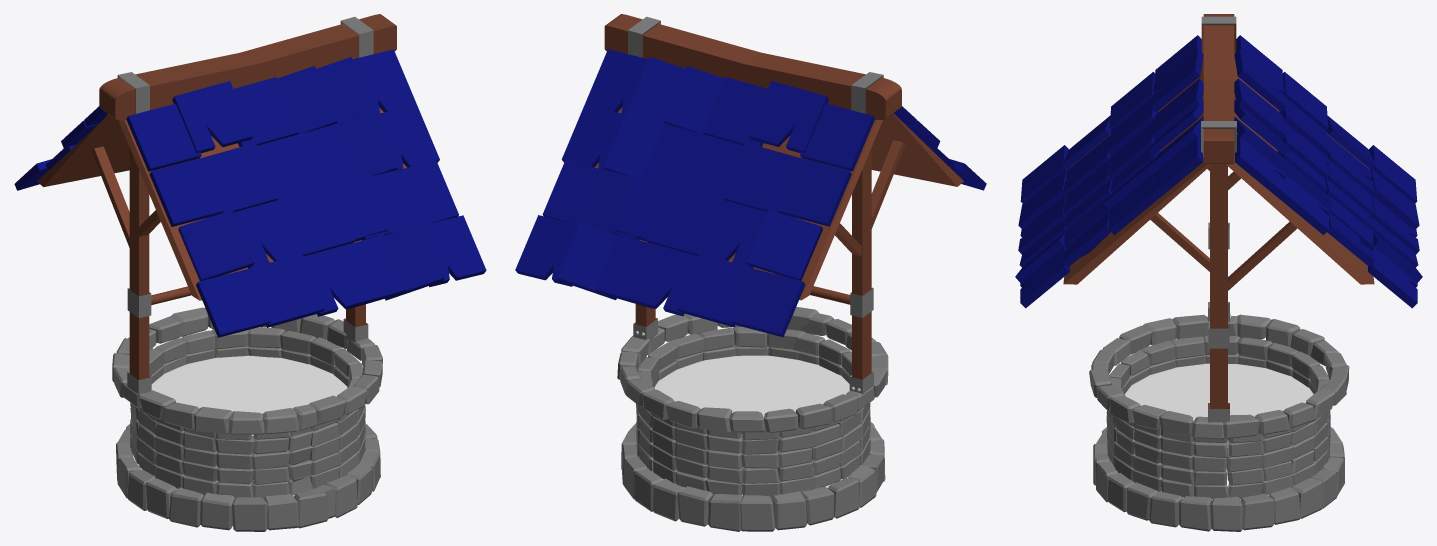
Rendered from stylizedWell.fbx.
The picture shows the model from 3 angles, left to right: view 1: azimuth 30°, elevation 25°; view 2: azimuth 150°, elevation 25°; view 3: azimuth 270°, elevation 25°; orthographic projection. The views are drawn at different scales.
Visible parts, largest first — view 1: Cube.032, Cube, Cube.001, Cube.009, Cube.002, Cylinder.001, Plane, Cube.004, Cube.007, Cube.003; view 2: Cube.032, Cube, Cube.002, Cube.009, Cube.001, Cylinder.001, Plane, Cube.004, Cube.008, Cube.003; view 3: Cube.032, Cube, Cube.001, Cube.002, Cylinder.001, Plane, Cube.009, Cube.003, Cube.005, Cube.006.
Part boxes in pixels (<box>): Cube.032: <box>14,49,486,337</box>; Cube: <box>130,327,365,498</box>; Cube.001: <box>112,307,382,434</box>; Cube.009: <box>99,14,396,120</box>; Cube.002: <box>116,424,380,531</box>; Cylinder.001: <box>151,355,347,435</box>; Plane: <box>37,107,406,300</box>; Cube.004: <box>127,148,151,397</box>; Cube.007: <box>91,146,129,247</box>; Cube.003: <box>343,304,368,342</box>; Cube.032: <box>515,49,986,337</box>; Cube: <box>636,326,870,497</box>; Cube.002: <box>621,422,885,531</box>; Cube.009: <box>604,14,901,119</box>; Cube.001: <box>617,307,888,433</box>; Cylinder.001: <box>654,355,849,435</box>; Plane: <box>594,107,963,300</box>; Cube.004: <box>849,148,873,394</box>; Cube.008: <box>871,140,905,228</box>; Cube.003: <box>633,304,657,341</box>; Cube.032: <box>1015,35,1422,308</box>; Cube: <box>1106,336,1330,499</box>; Cube.001: <box>1089,314,1349,439</box>; Cube.002: <box>1093,427,1344,531</box>; Cylinder.001: <box>1125,363,1313,450</box>; Plane: <box>1063,53,1374,284</box>; Cube.009: <box>1201,14,1236,164</box>; Cube.003: <box>1208,164,1229,422</box>; Cube.005: <box>1228,221,1297,290</box>; Cube.006: <box>1150,213,1209,271</box>.
Bounding box in the file's own units: 2027 × 2936 × 2664.
